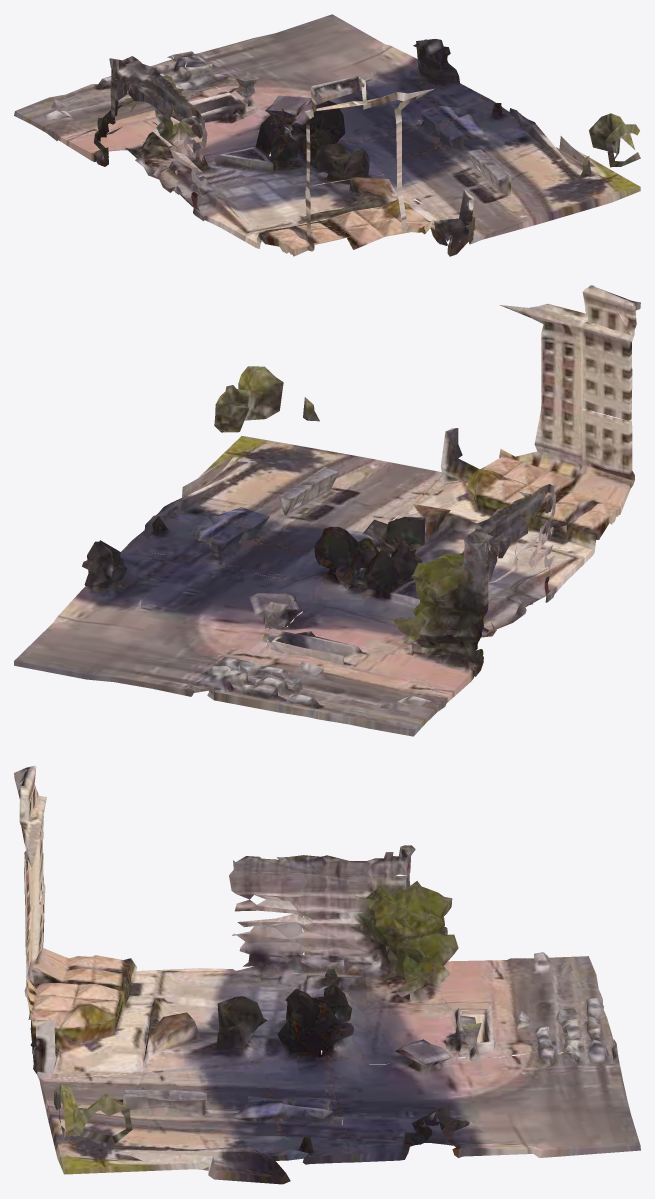
The picture shows the model from 3 angles, top to bottom: view 1: azimuth 30°, elevation 25°; view 2: azimuth 150°, elevation 25°; view 3: azimuth 270°, elevation 25°; orthographic projection. The views are drawn at different scales.
Parts seen in each view (by area): view 1: Mesh_0; view 2: Mesh_0; view 3: Mesh_0.
Part boxes in pixels (x1,y1,x2,y2): Mesh_0: (14,14,640,256); Mesh_0: (14,285,640,736); Mesh_0: (14,765,640,1184).
Bounding box in the file's own units: 66.57 × 35.76 × 82.43.
Materials: 1 (1 with a texture image).
